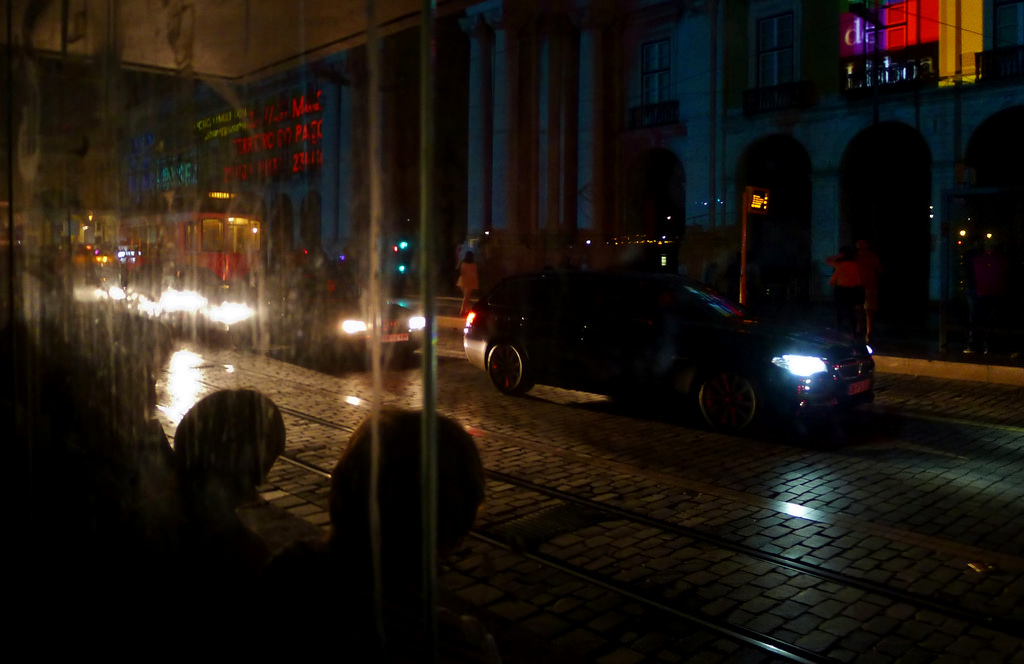car: (458, 265, 890, 441)
